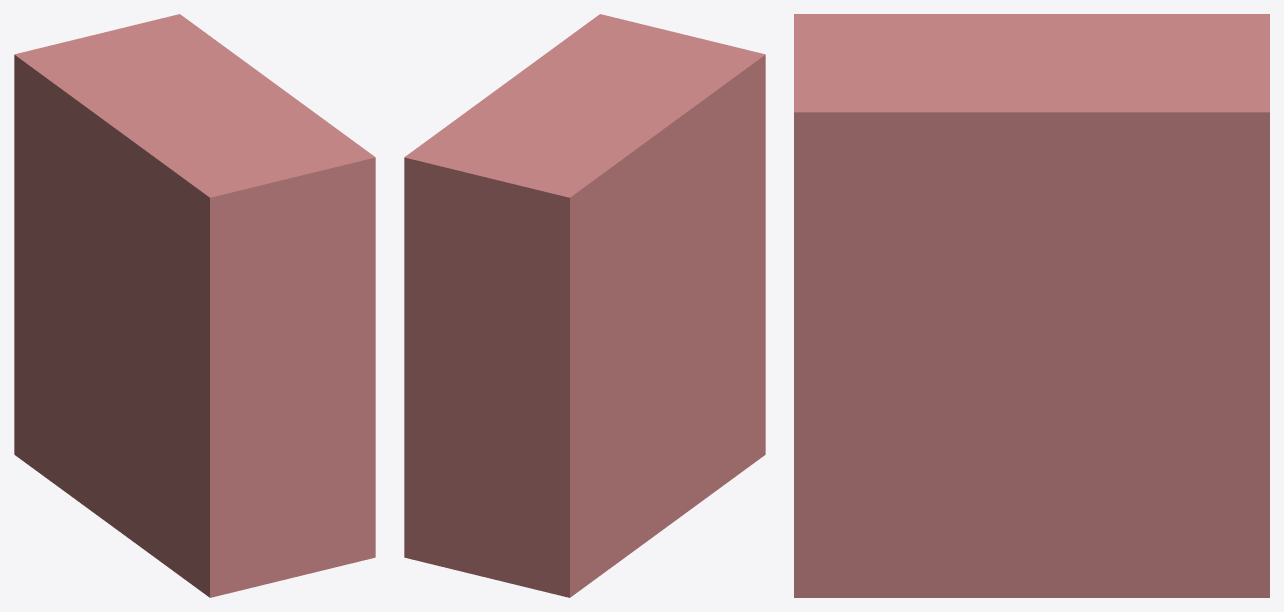
File: 239502_occ.glb
The picture shows the model from 3 angles, left to right: view 1: azimuth 30°, elevation 25°; view 2: azimuth 150°, elevation 25°; view 3: azimuth 270°, elevation 25°; orthographic projection. The views are drawn at different scales.
Visible parts, largest first — view 1: world; view 2: world; view 3: world.
Boxes of the visible parts, x1=… form: world: x1=14, y1=14, x2=375, y2=597; world: x1=404, y1=14, x2=765, y2=597; world: x1=794, y1=14, x2=1269, y2=597.
Size of the model in its own units: 1.02 by 2.35 by 2.08.
